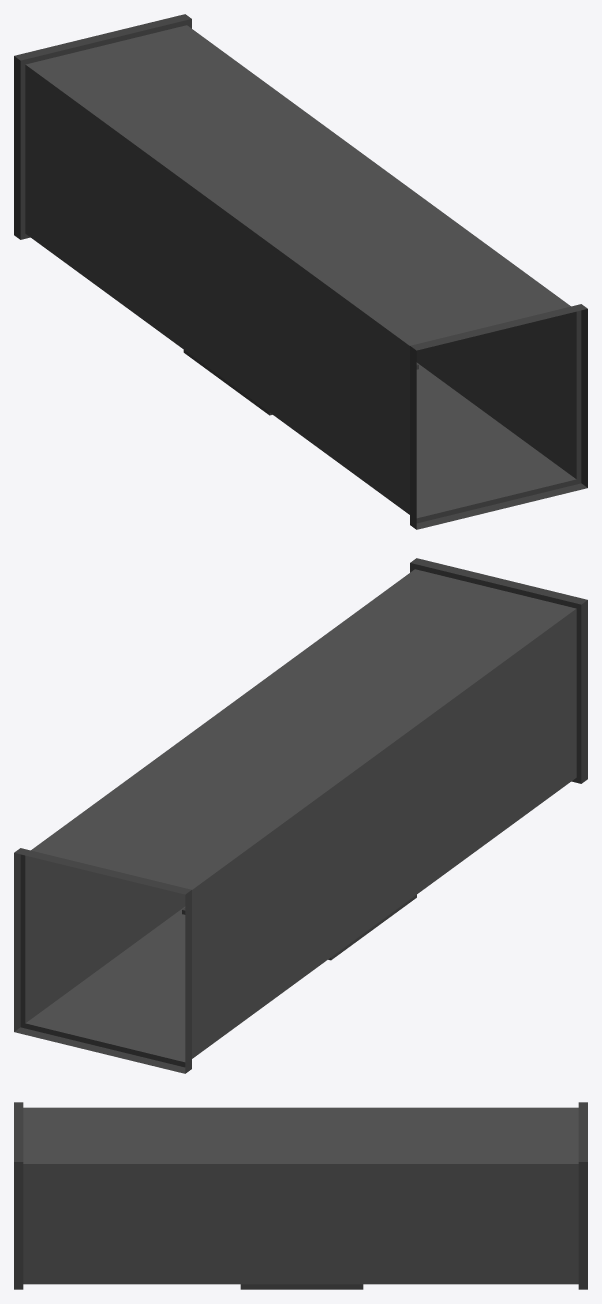
Rendered from WallDecor_01.fbx.
3 renders of one model, top to bottom at view 1: azimuth 30°, elevation 25°; view 2: azimuth 150°, elevation 25°; view 3: azimuth 270°, elevation 25°, orthographic. The views are drawn at different scales.
Visible parts, largest first — view 1: WallDecor_01; view 2: WallDecor_01; view 3: WallDecor_01.
Part boxes in pixels (x1=…): WallDecor_01: x1=14, y1=14, x2=587, y2=529; WallDecor_01: x1=14, y1=558, x2=587, y2=1073; WallDecor_01: x1=14, y1=1102, x2=587, y2=1289.
Bounding box in the file's own units: 61.42 × 63.09 × 250.
